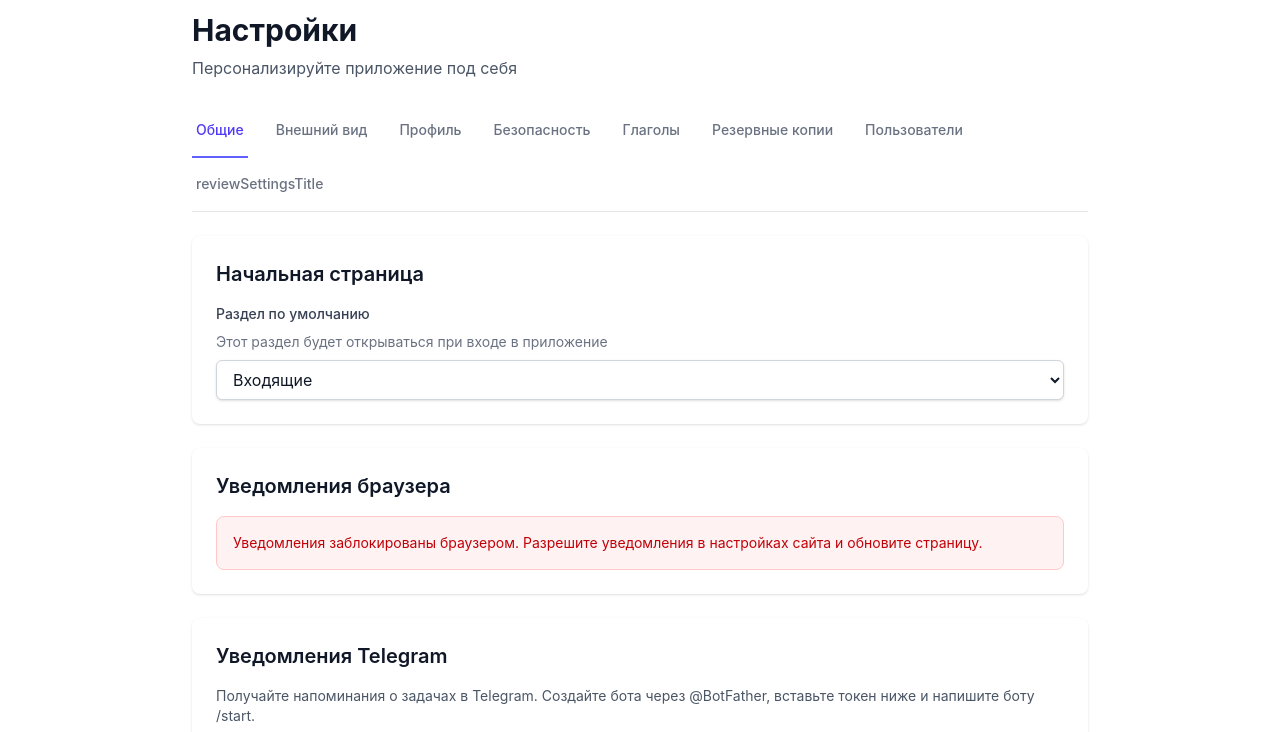
Test case: Settings › users tab › shows loading state while fetching
Click the button "Пользователи" at (914, 131), box [861, 104, 967, 158]
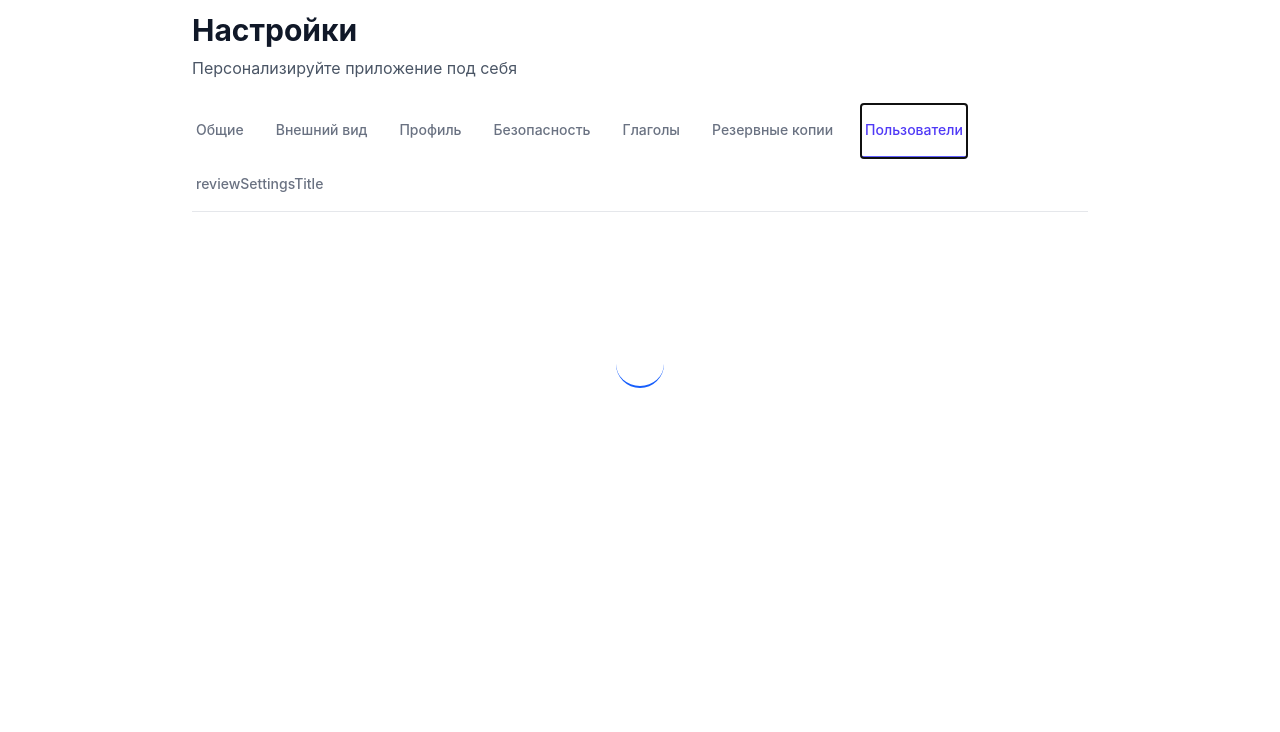
Expected: the element with class "animate-spin" is shown, [616, 340, 664, 388]
